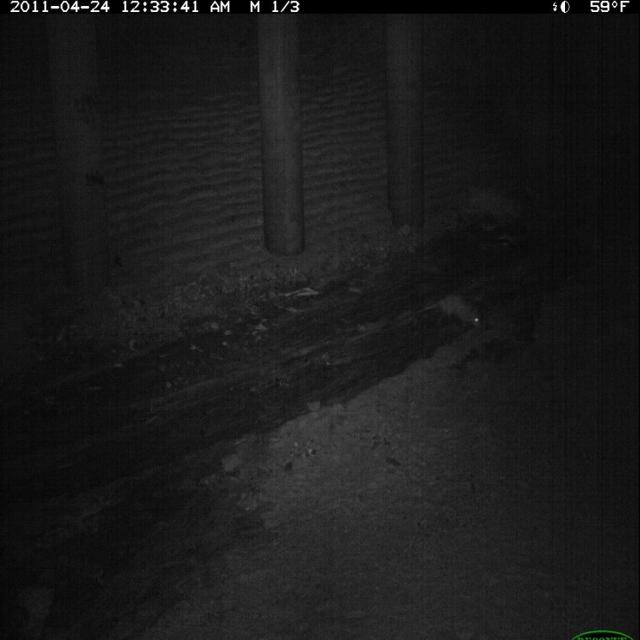opossum: (417, 286, 490, 340)
